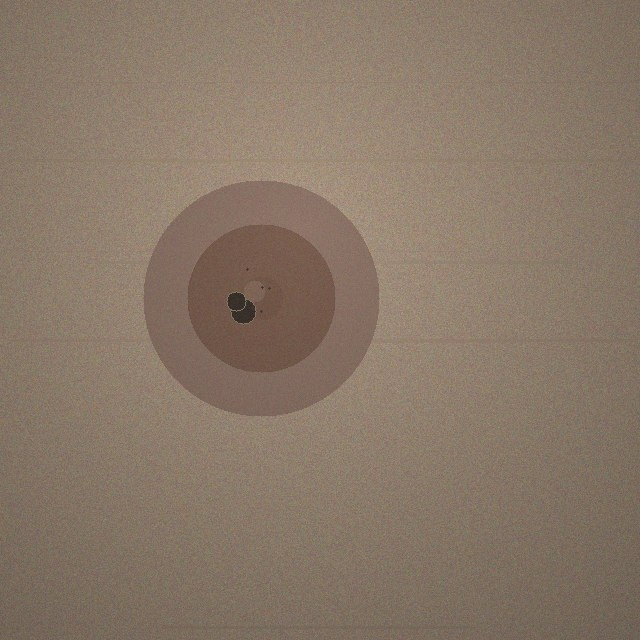shrinkage: (143, 180, 379, 416)
